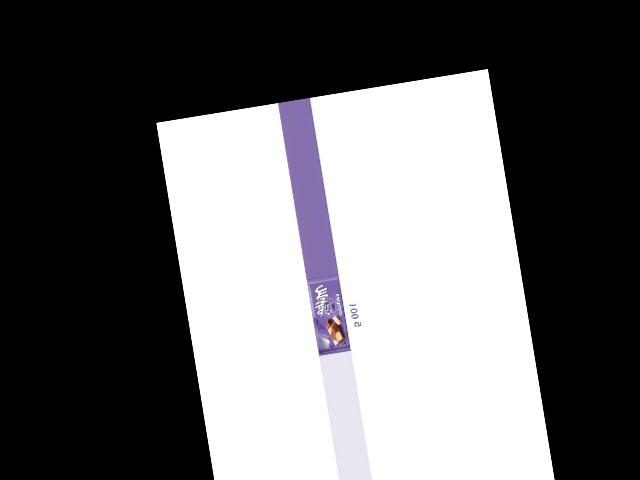chocolate: (305, 273, 356, 356)
